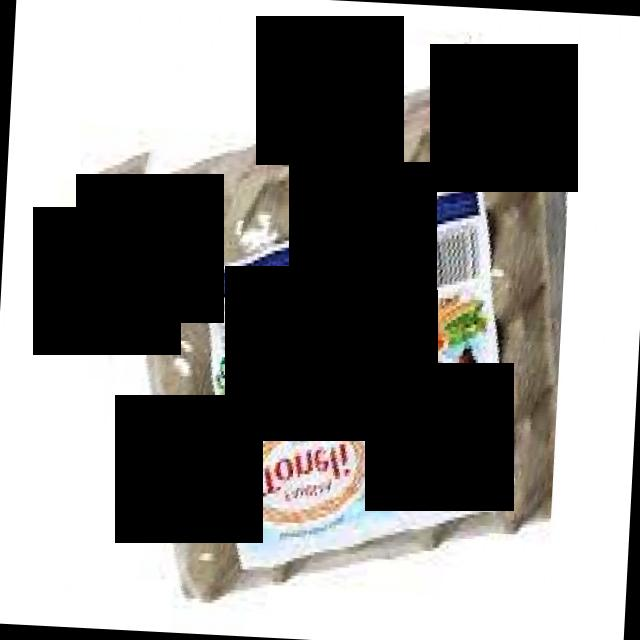eggs: (56, 28, 575, 622)
